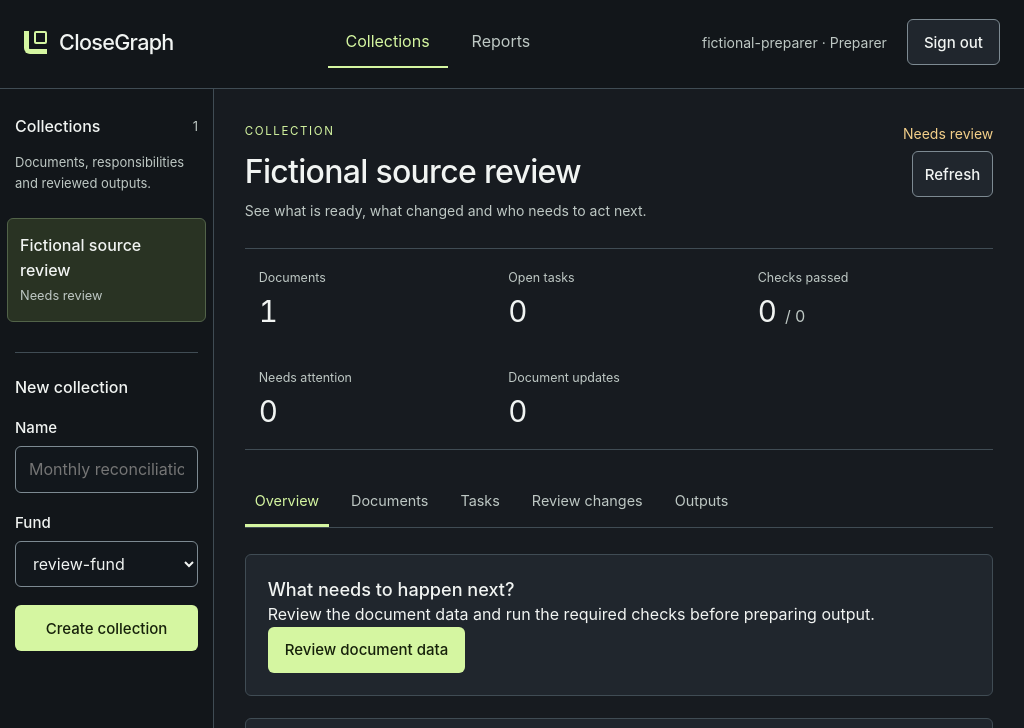
Test: collection evidence review › refreshes a conflicting revision and never silently retries a correction
This screenshot has width=1024, height=728.
Click the button "Documents" at (390, 502), box [341,478,438,527]
(page scrolled)
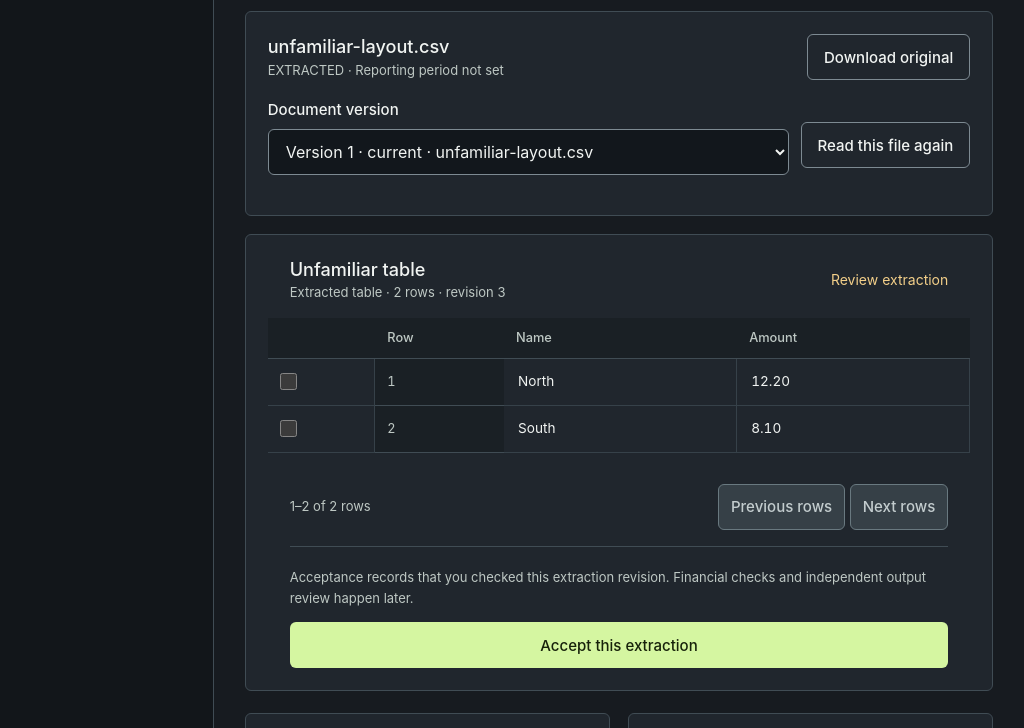
Click the button named "Amount, row 1: 12.20" at (853, 382), box [737,358,969,404]
(page scrolled)
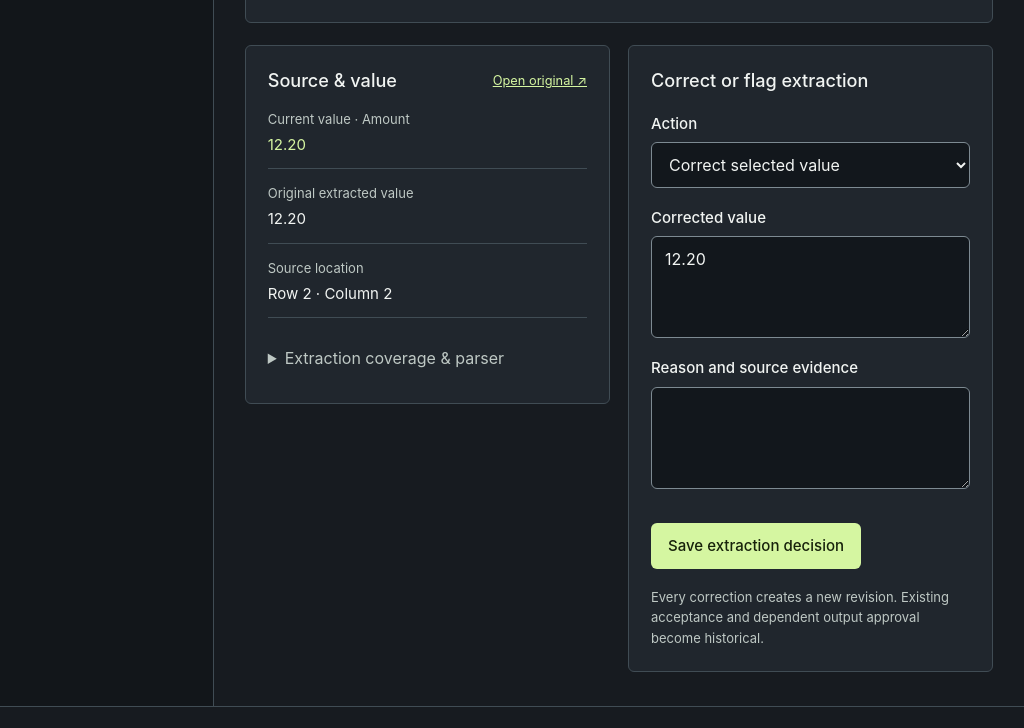
Type "Inspect original row" into the text box labelled "Reason and source evidence" at (811, 438), box [651,386,970,488]
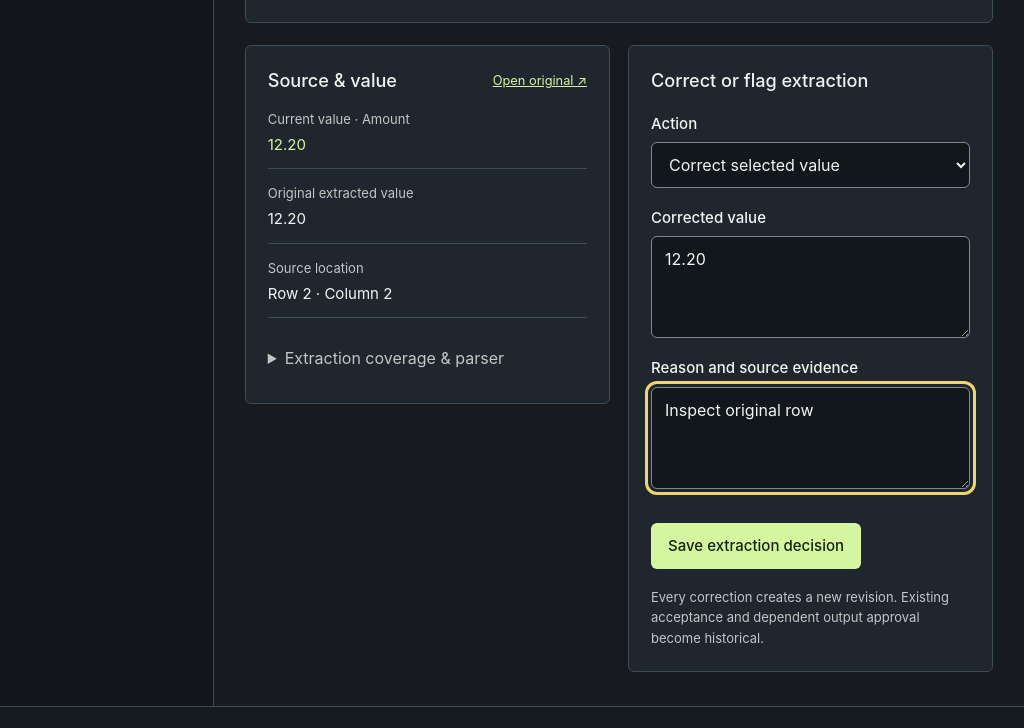
Click the button "Save extraction decision" at (756, 546), box [651,522,861,568]
(page scrolled)
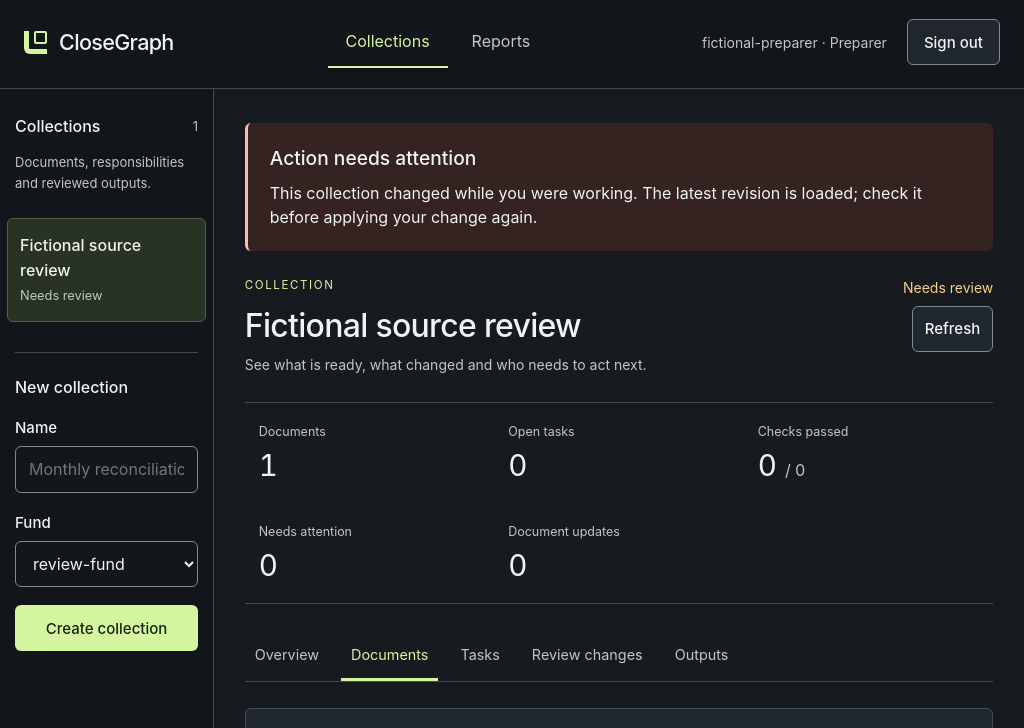
Now the text "latest revision is loaded" is shown, box [270,182,922,227]
